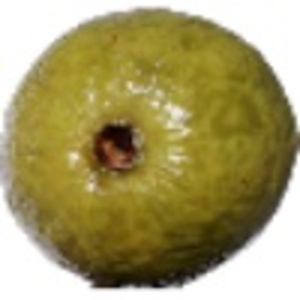goiaba: (5, 4, 299, 289)
